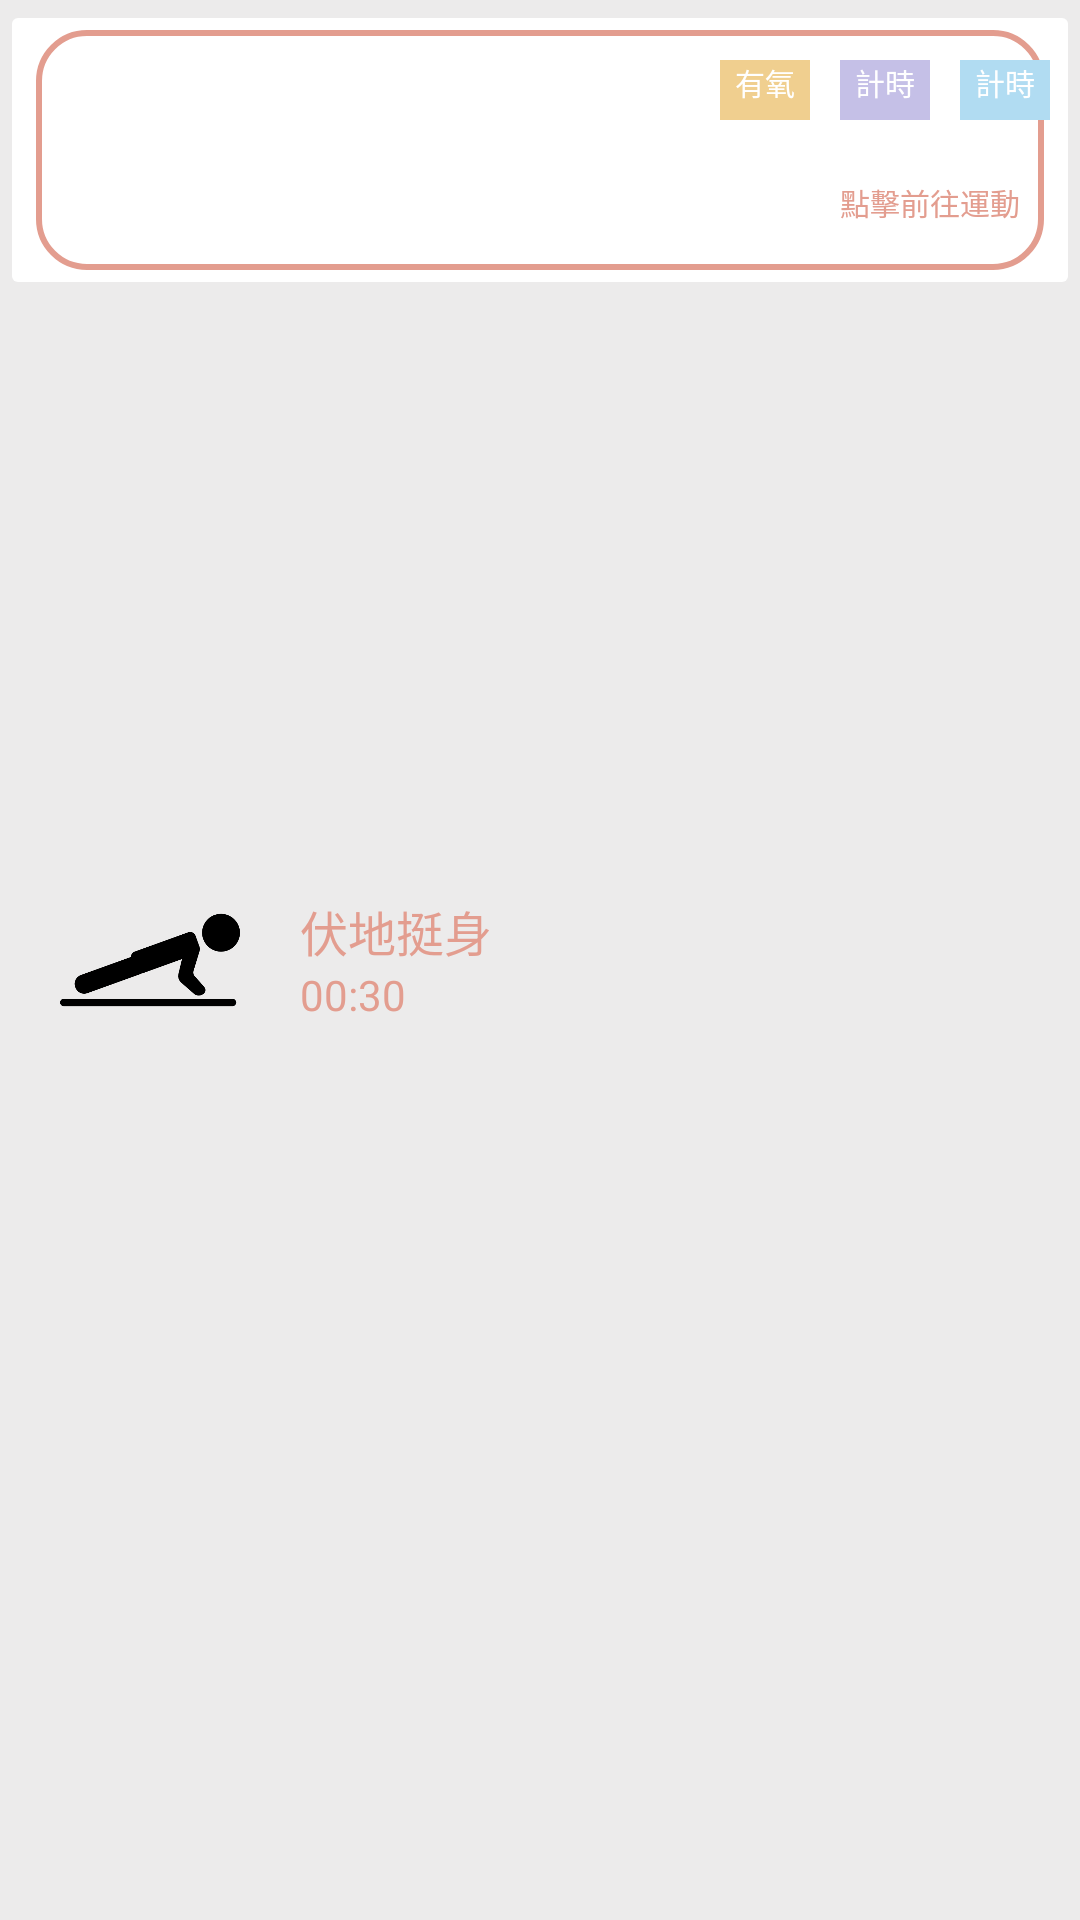

Locate icon controls on the screen. Image size 1080 x 1920, boxes as (x1, y1, x2, y2).
push up: (60, 914, 240, 1007)
